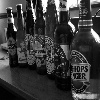beer: (5, 6, 16, 68)
